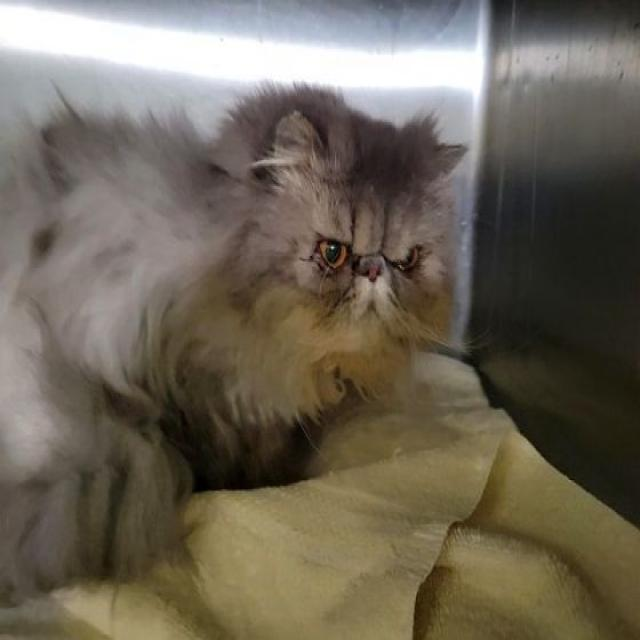persian_cat: (228, 71, 480, 400)
